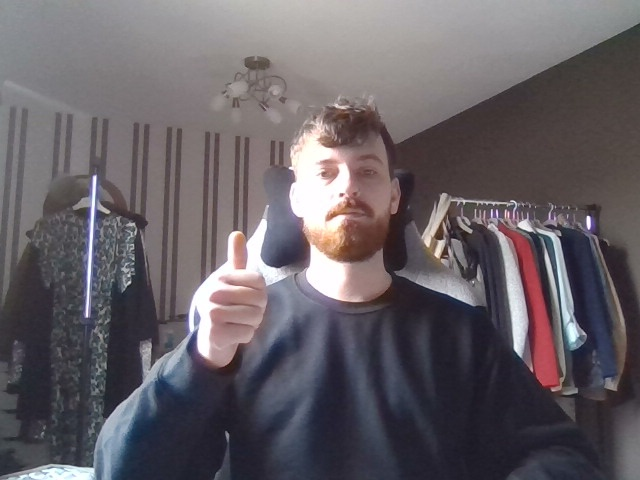Thumbs Up: (192, 218, 274, 365)
